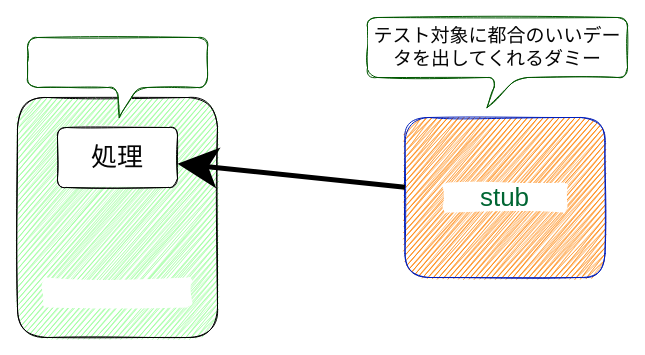
The diagram is 645 pixels wide and 355 high, and some of its shapes have lost their labels. Here are the shapes that lost their labels. From the top down, the centre of each, then its label:
At point (117, 77): "これをテストしたい".
At point (117, 292): "テスト対象".
